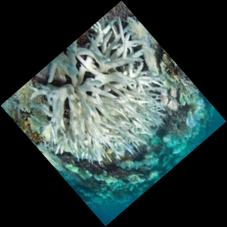bleached_corals: (9, 8, 194, 193)
